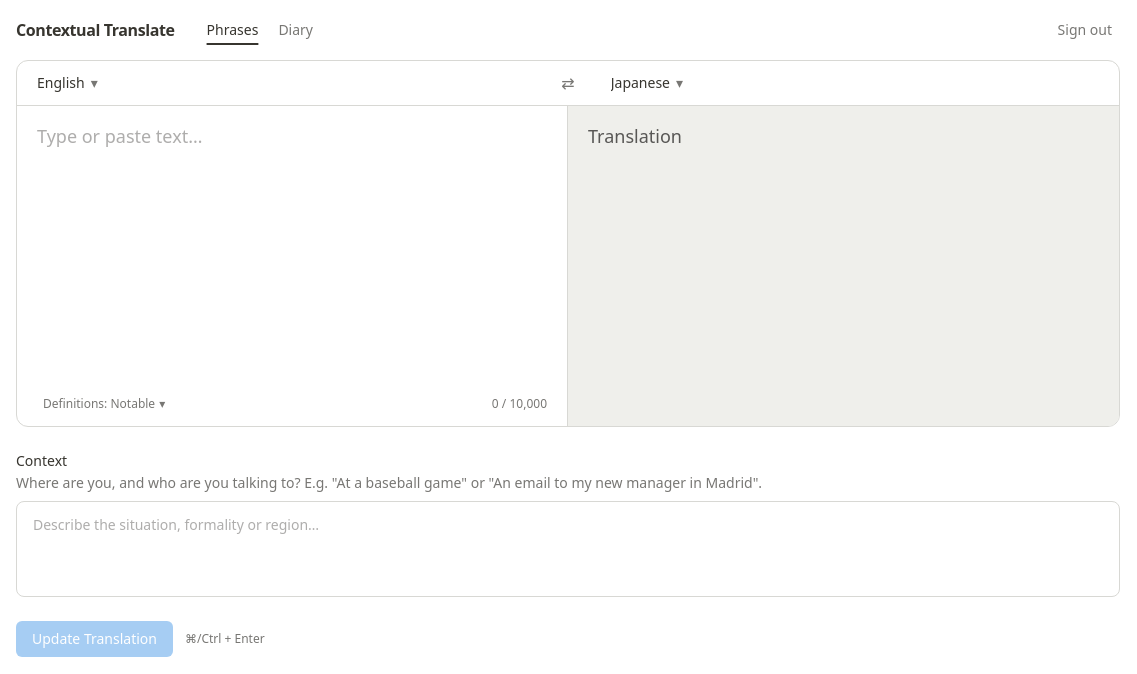
Test: TranslatePage › keeps the readings out of what a screen reader reads, in the paragraph and in a glossed word
Expected: the button "Sign out" is shown, [1050, 16, 1120, 44]
Type "Nice weather today" into the text box named "Text to translate".
click(292, 250); type("Nice weather today")  # box [17, 106, 567, 394]
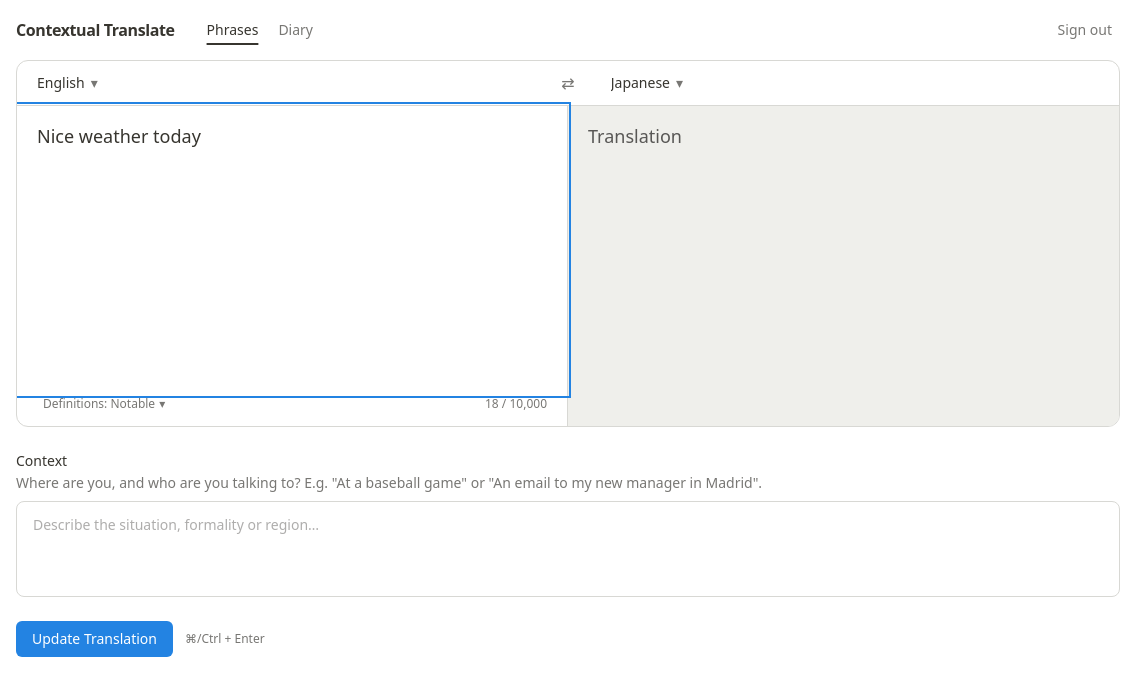
Click the button "Update Translation".
click(94, 639)  # box [16, 621, 173, 657]
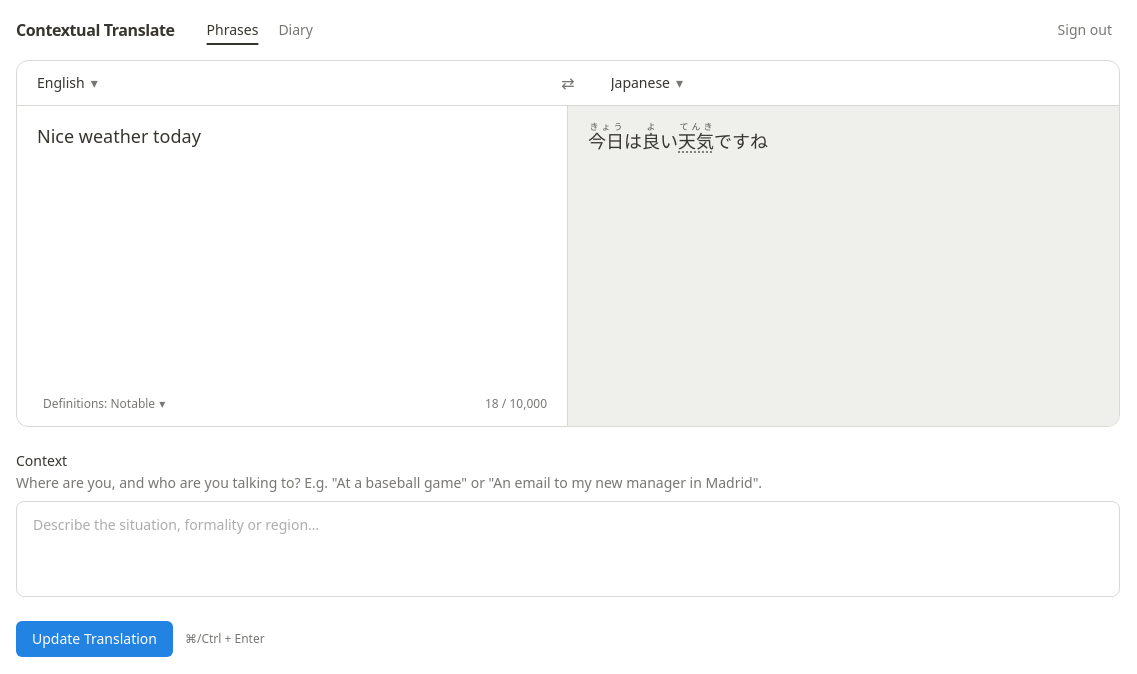
Now the element showing "今日 きょう は 良 よ い 天気 てんき ですね" is shown, box [588, 120, 768, 159]
